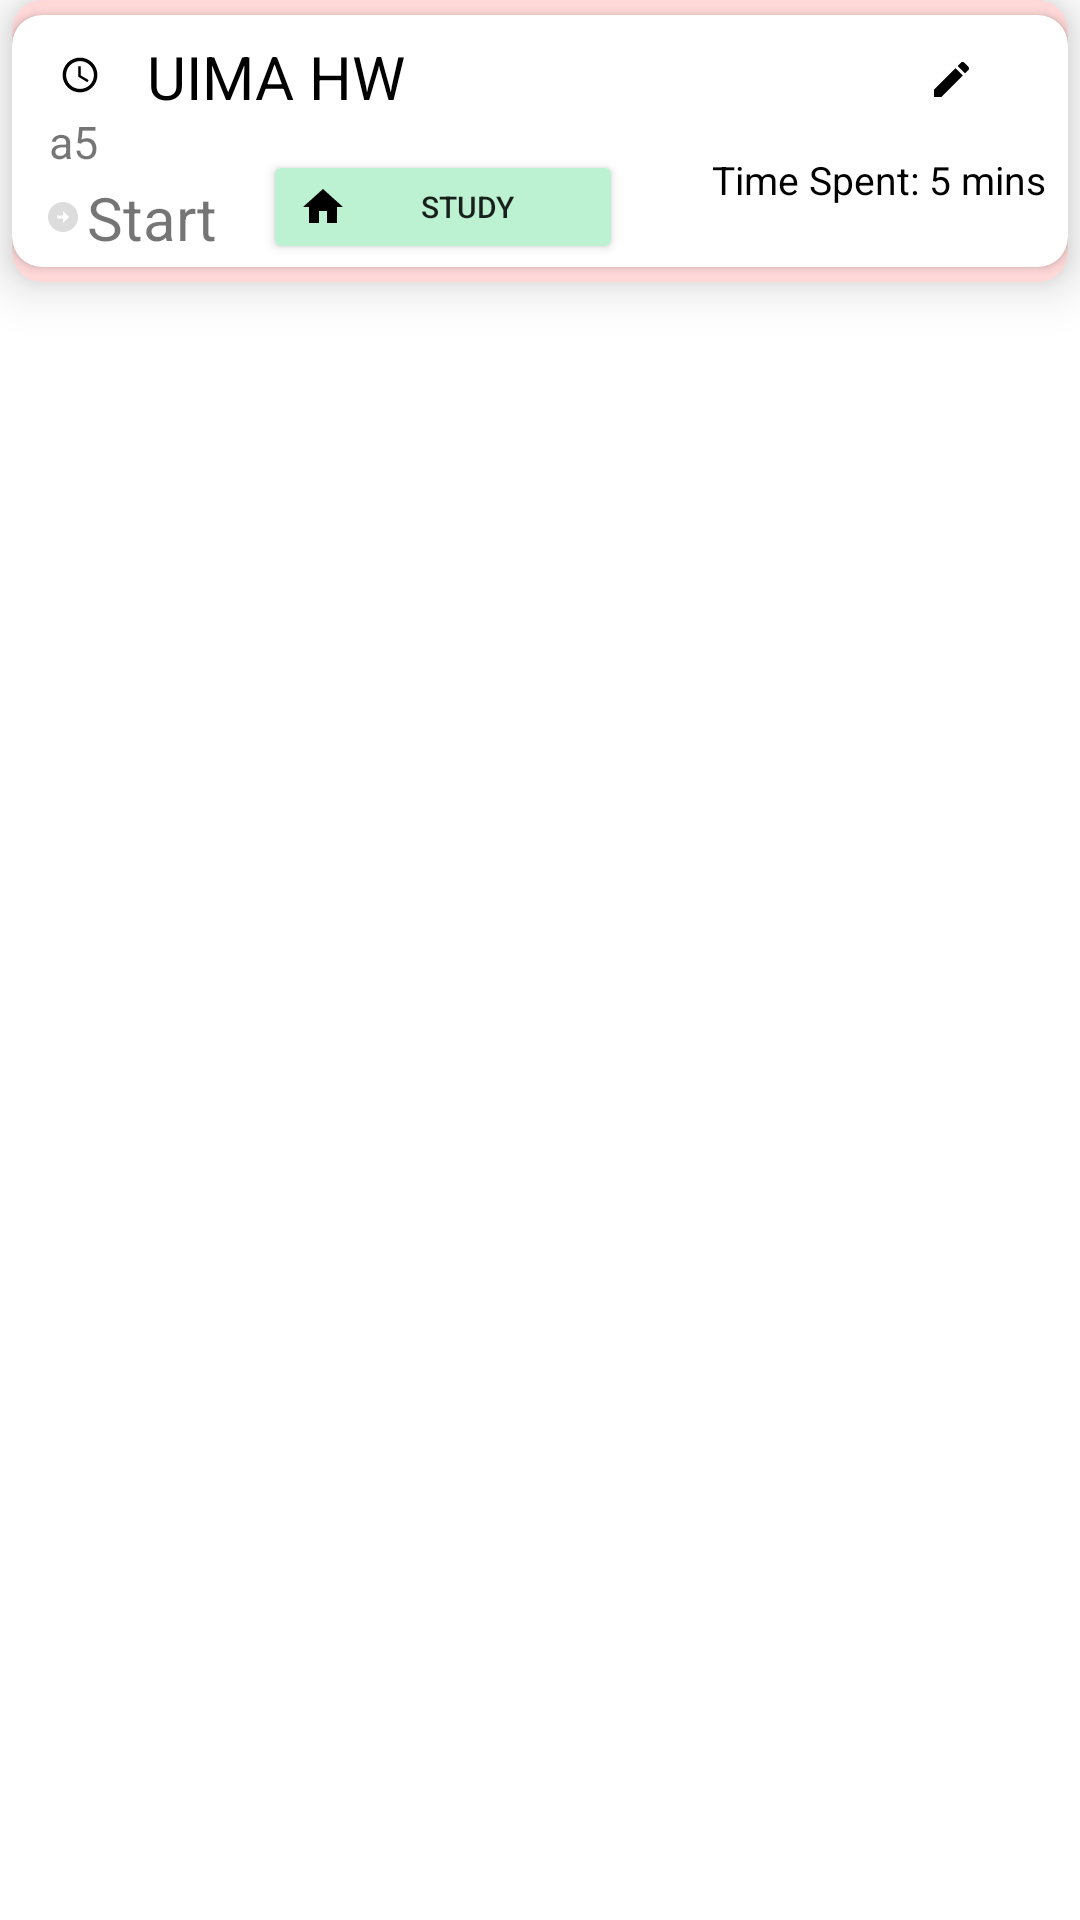

Where to tap for icons on this 1080px x 1920px app screen, as point (x, y):
edit: point (951, 79)
